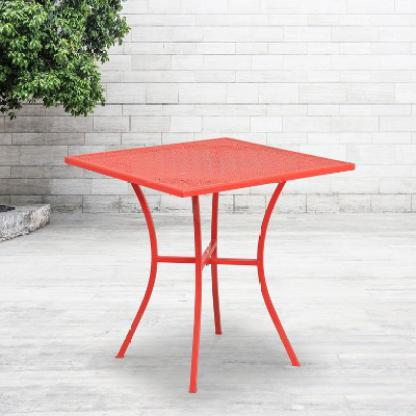table: (59, 130, 357, 396)
